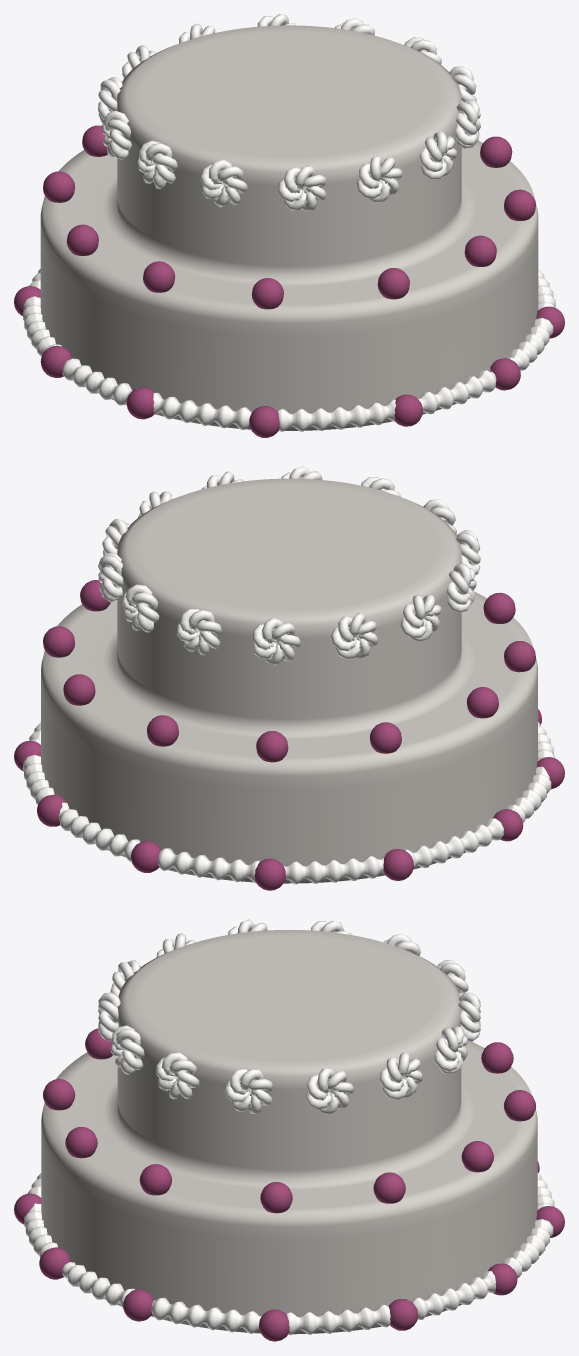
The model's file is cake.glb.
3 renders of one model, top to bottom at view 1: azimuth 30°, elevation 25°; view 2: azimuth 150°, elevation 25°; view 3: azimuth 270°, elevation 25°, orthographic.
Size of the model in its own units: 0.2885 by 0.1374 by 0.2885.
